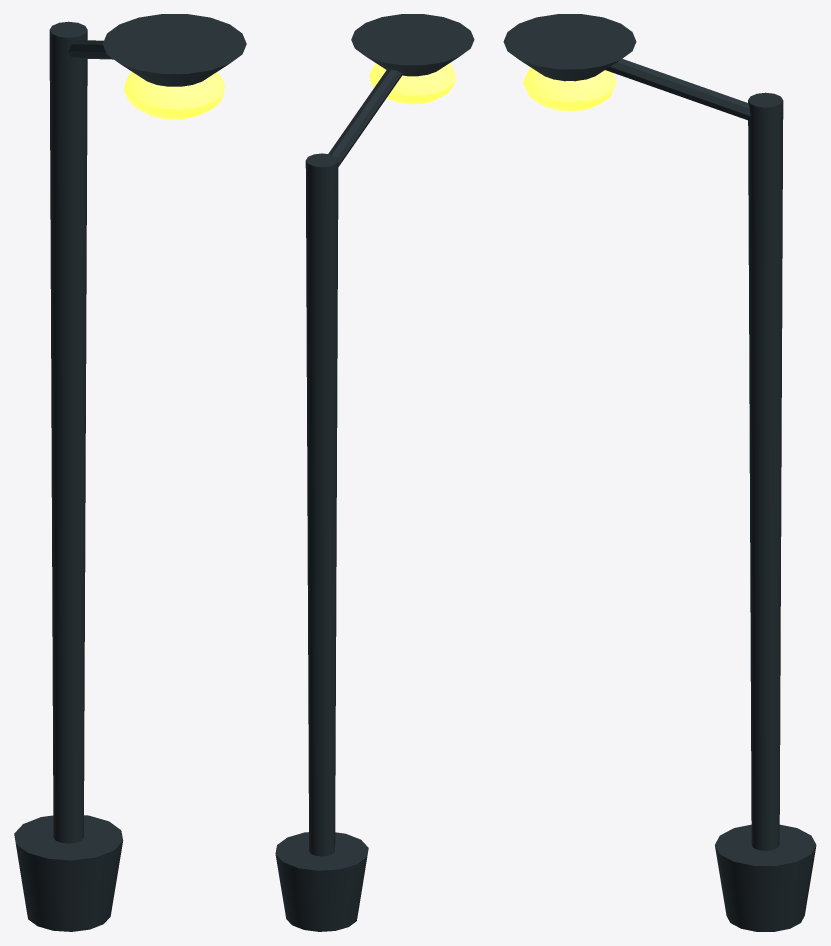
The model's file is parking_lamp.glb.
3 renders of one model, left to right at view 1: azimuth 30°, elevation 25°; view 2: azimuth 150°, elevation 25°; view 3: azimuth 270°, elevation 25°, orthographic. The views are drawn at different scales.
Visible parts, largest first — view 1: Lamp, LampBulb; view 2: Lamp, LampBulb; view 3: Lamp, LampBulb.
Boxes of the visible parts, bbox=[...] form: Lamp: bbox=[14, 14, 246, 931]; LampBulb: bbox=[124, 72, 224, 119]; Lamp: bbox=[275, 14, 474, 931]; LampBulb: bbox=[369, 63, 455, 104]; Lamp: bbox=[503, 14, 816, 931]; LampBulb: bbox=[523, 67, 616, 111].
Bounding box in the file's own units: 0.6697 × 4.93 × 1.6.
